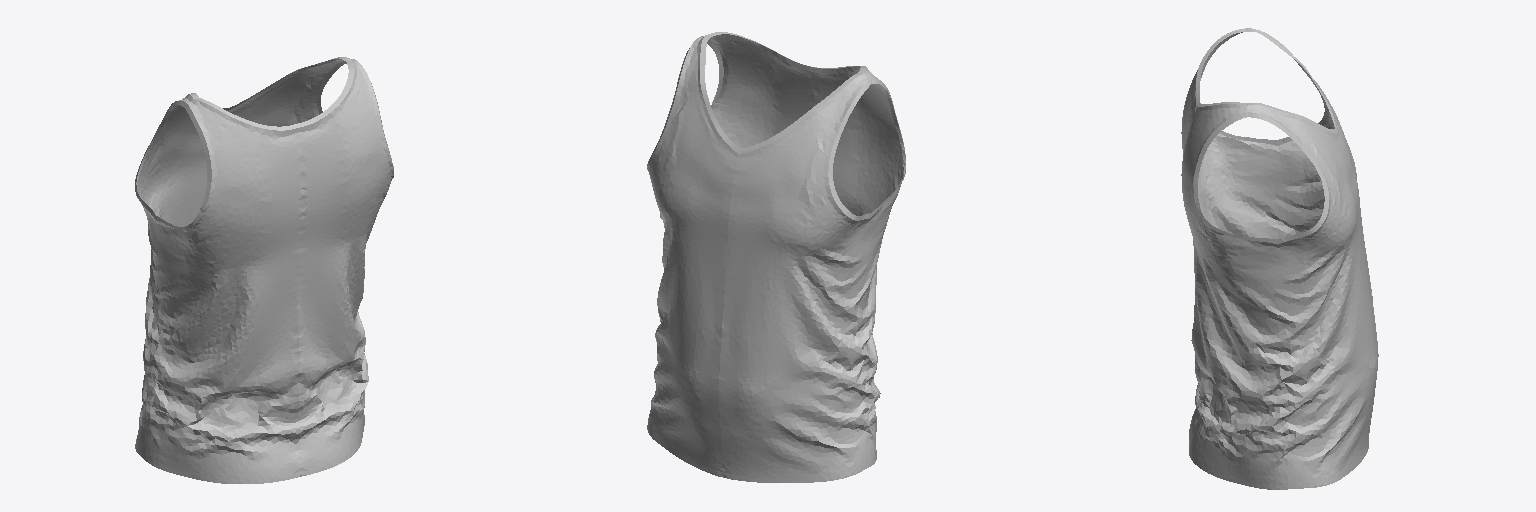
File: AltTankTop.obj
The picture shows the model from 3 angles: view 1: azimuth 30°, elevation 25°; view 2: azimuth 150°, elevation 25°; view 3: azimuth 270°, elevation 25°; orthographic projection.
Visible parts, largest first — view 1: TankTop_Lit.020_tank_top.022; view 2: TankTop_Lit.020_tank_top.022; view 3: TankTop_Lit.020_tank_top.022.
Part boxes in pixels (x1,y1,x2,y2): TankTop_Lit.020_tank_top.022: (135,57,393,483); TankTop_Lit.020_tank_top.022: (647,32,905,482); TankTop_Lit.020_tank_top.022: (1181,28,1378,489).
Size of the model in its own units: 0.439 by 0.742 by 0.3501.